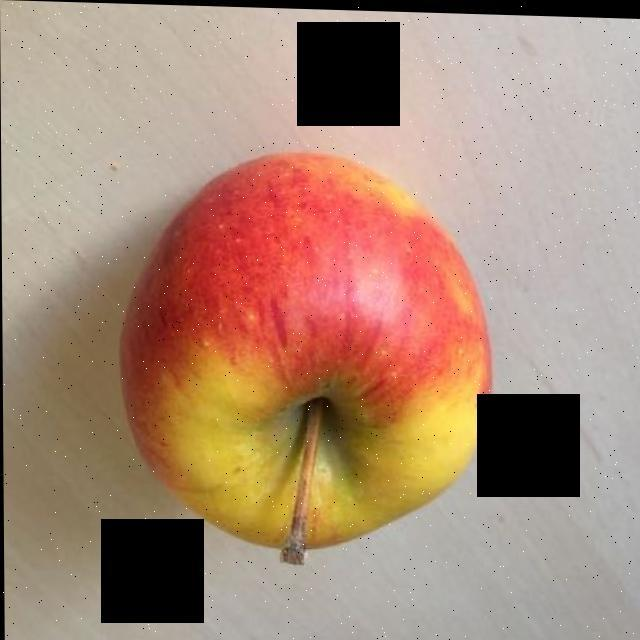apple: (121, 153, 491, 535)
